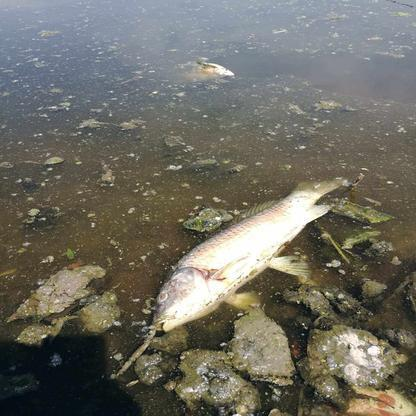deceased fish: (135, 170, 343, 335)
